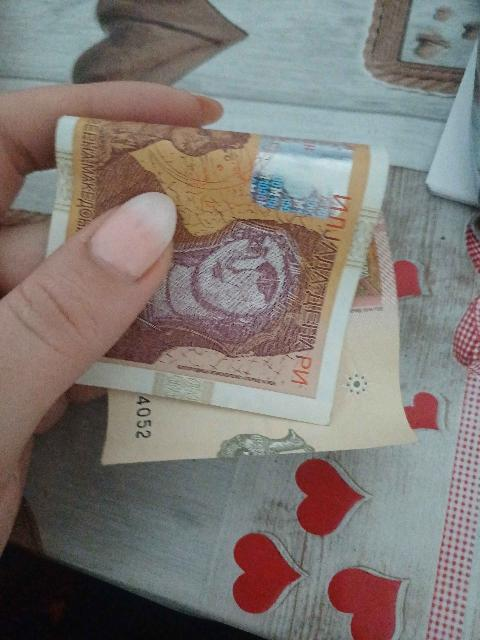1000_note: (48, 117, 413, 466)
